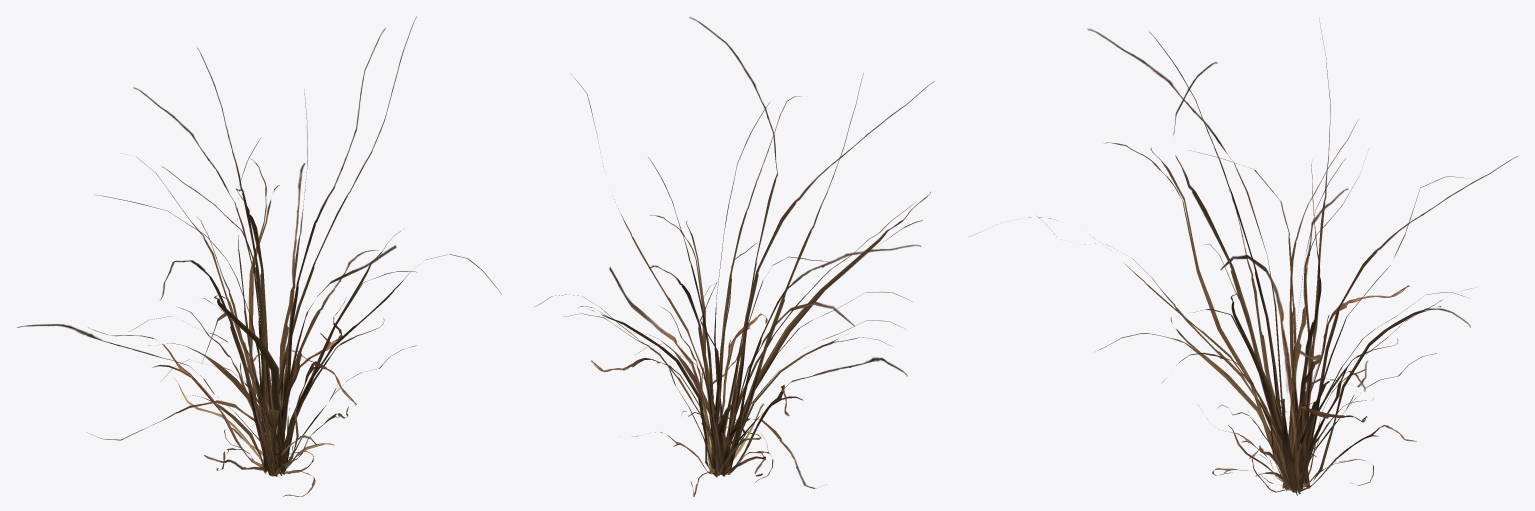
Rendered from grass_tuft_b.glb.
3 renders of one model, left to right at view 1: azimuth 30°, elevation 25°; view 2: azimuth 150°, elevation 25°; view 3: azimuth 270°, elevation 25°, orthographic. The views are drawn at different scales.
Parts seen in each view (by area): view 1: grass_medium_02_e_w; view 2: grass_medium_02_e_w; view 3: grass_medium_02_e_w.
Part boxes in pixels (x1,y1,x2,y2): grass_medium_02_e_w: (17,16,501,496); grass_medium_02_e_w: (534,17,934,496); grass_medium_02_e_w: (970,18,1517,495).
Size of the model in its own units: 0.4409 by 0.5 by 0.5372.
1 material, 1 textured.
